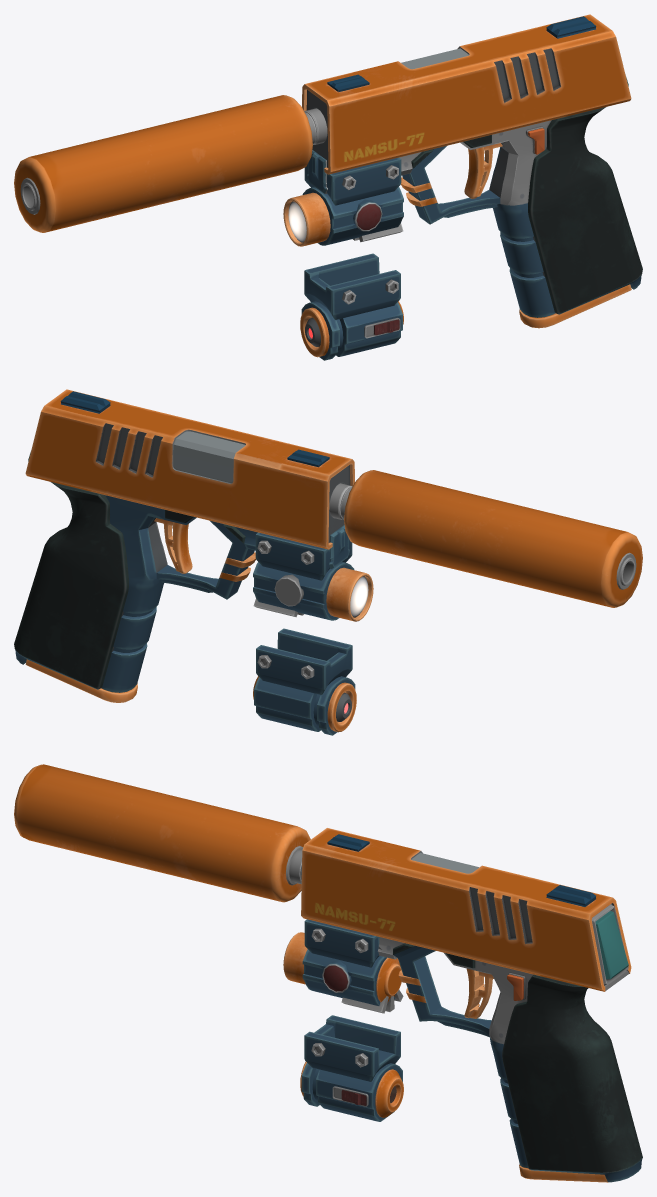
File: pistolorange.glb
3 views of the same model, one above another, from view 1: azimuth 30°, elevation 25°; view 2: azimuth 150°, elevation 25°; view 3: azimuth 330°, elevation 25° (orthographic).
Parts seen in each view (by area): view 1: gate, pistolbase, muffler, laser, flashlight, trigger, cartridge; view 2: gate, pistolbase, muffler, laser, flashlight, trigger, cartridge; view 3: gate, pistolbase, muffler, laser, flashlight, trigger, cartridge.
Boxes of the visible parts, x1,y1,x2,y2 form: gate: (302,14,631,174); pistolbase: (304,77,642,317); muffler: (14,95,316,232); laser: (300,253,403,360); flashlight: (283,157,403,246); trigger: (464,143,502,198); cartridge: (519,284,631,328); gate: (25,389,354,549); pistolbase: (14,452,352,692); muffler: (340,470,642,607); laser: (253,628,356,735); flashlight: (253,532,373,621); trigger: (154,518,192,573); cartridge: (25,659,137,702); gate: (301,828,631,991); pistolbase: (300,865,642,1182); muffler: (14,764,310,902); laser: (300,1015,403,1121); flashlight: (283,919,403,1013); trigger: (464,968,493,1018); cartridge: (519,1164,607,1182).
Bounding box in the file's own units: 0.2561 × 0.1166 × 0.0283.
1 material, 1 textured.
